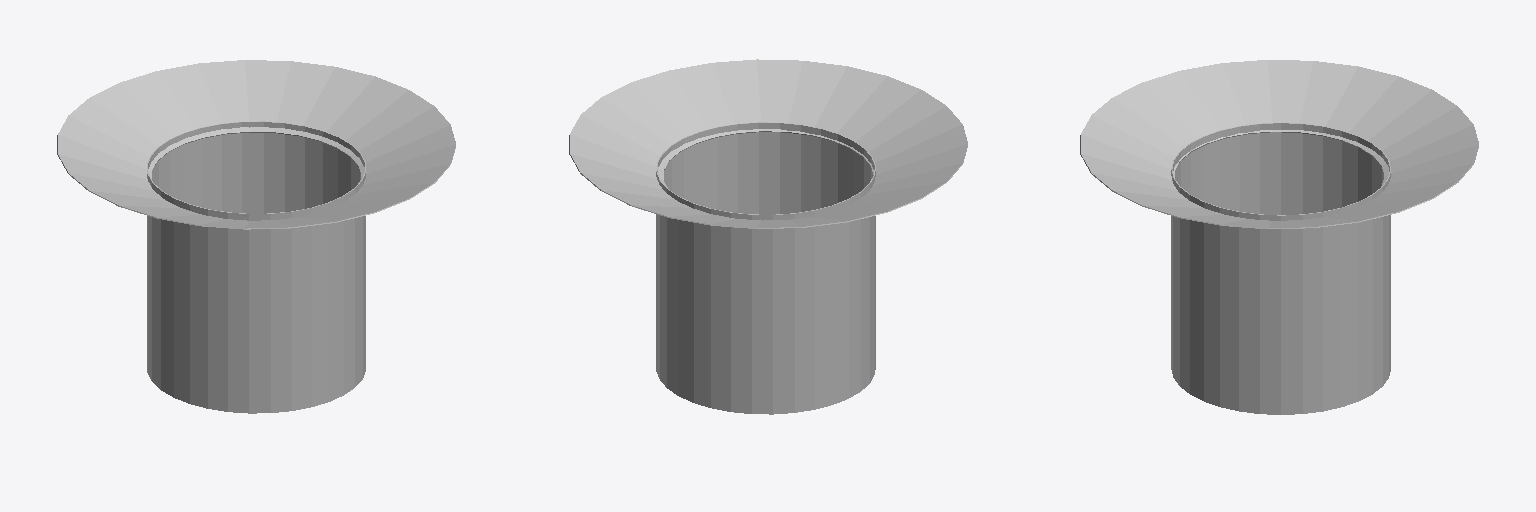
The model's file is golf delik2.obj.
3 renders of one model, left to right at view 1: azimuth 30°, elevation 25°; view 2: azimuth 150°, elevation 25°; view 3: azimuth 270°, elevation 25°, orthographic.
Parts seen in each view (by area): view 1: Cylinder_Cylinder.001, Cone_Cone.001; view 2: Cylinder_Cylinder.001, Cone_Cone.001; view 3: Cylinder_Cylinder.001, Cone_Cone.001.
Boxes of the visible parts, box(x1,y1,x2,y2) form: Cylinder_Cylinder.001: box(147, 121, 365, 413); Cone_Cone.001: box(57, 60, 455, 229); Cylinder_Cylinder.001: box(656, 122, 875, 414); Cone_Cone.001: box(569, 59, 967, 228); Cylinder_Cylinder.001: box(1171, 123, 1390, 414); Cone_Cone.001: box(1080, 60, 1478, 228).
Bounding box in the file's own units: 3.63 × 2.25 × 3.63.